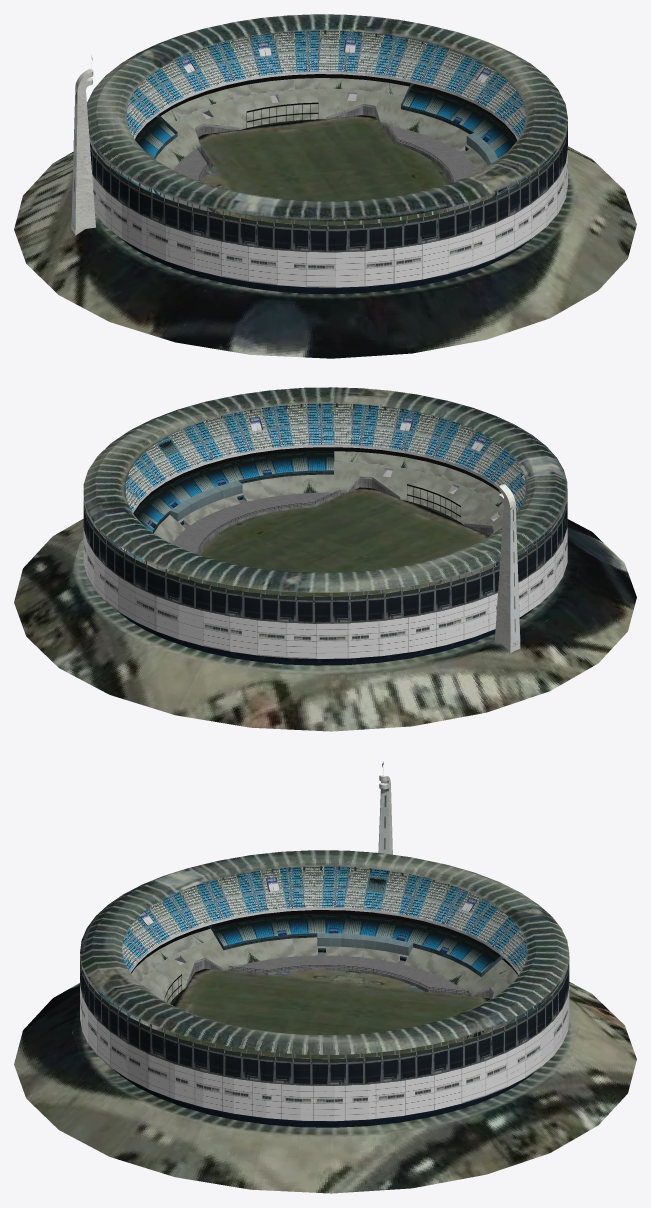
File: Racing.gltf
3 renders of one model, top to bottom at view 1: azimuth 30°, elevation 25°; view 2: azimuth 150°, elevation 25°; view 3: azimuth 270°, elevation 25°, orthographic.
Visible parts, largest first — view 1: Root Node; view 2: Root Node; view 3: Root Node.
Part boxes in pixels (x1,y1,x2,y2): Root Node: [14, 14, 636, 358]; Root Node: [14, 387, 636, 731]; Root Node: [14, 761, 636, 1193].
Size of the model in its own units: 227 by 81.02 by 227.
195 materials, 192 textured.
